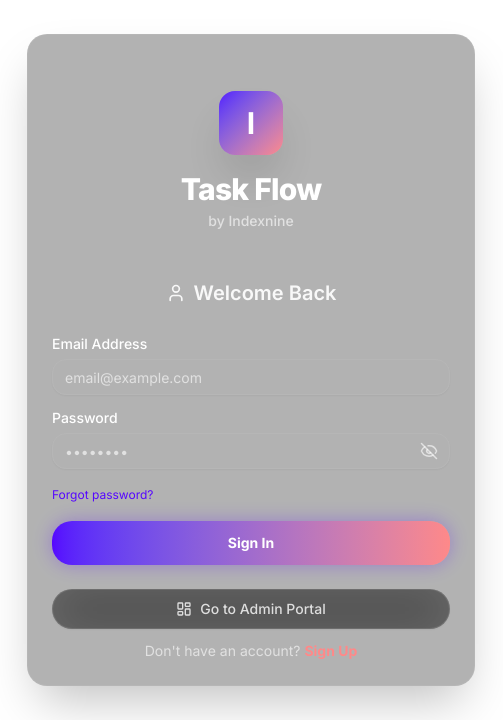
Scenario: SignIn page › shows validation error when submitting empty form
Click the button "Sign In" at [251, 543], box x1=52 y1=521 x2=450 y2=565
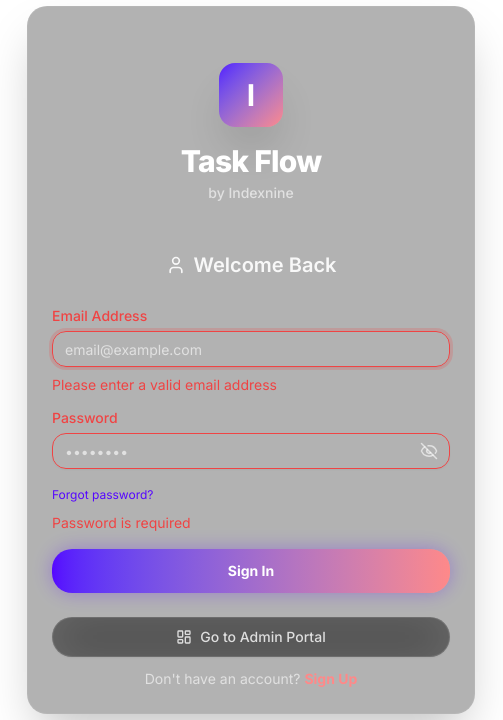
Expected: the text "Please enter a valid email address" is shown, x1=52 y1=376 x2=277 y2=393
